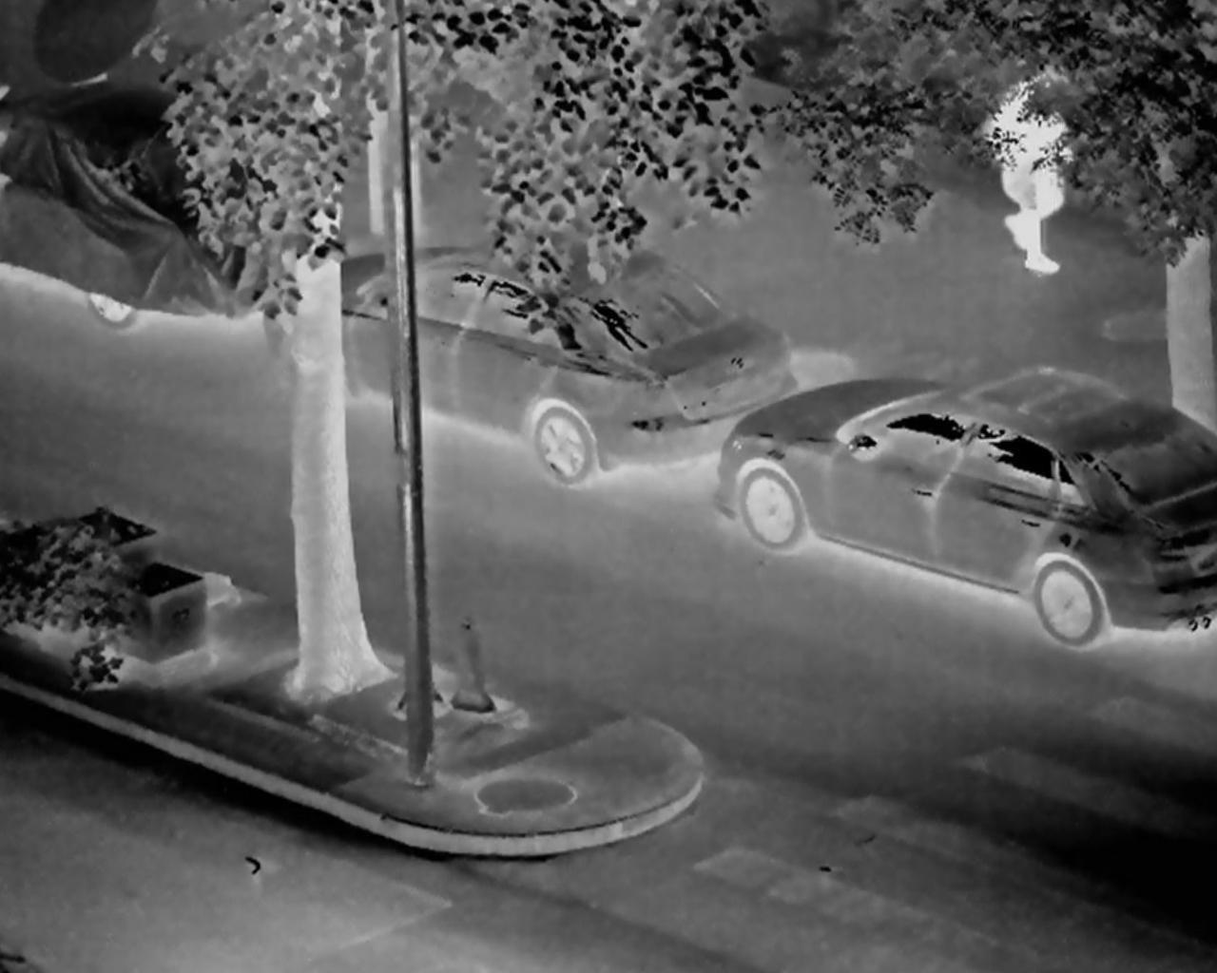person: (986, 64, 1088, 279)
